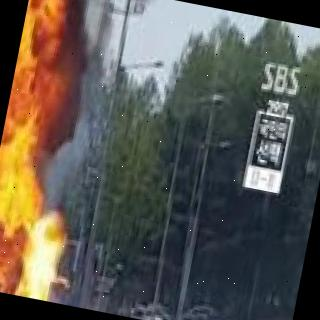fire: (0, 203, 62, 301), (0, 135, 47, 208)
